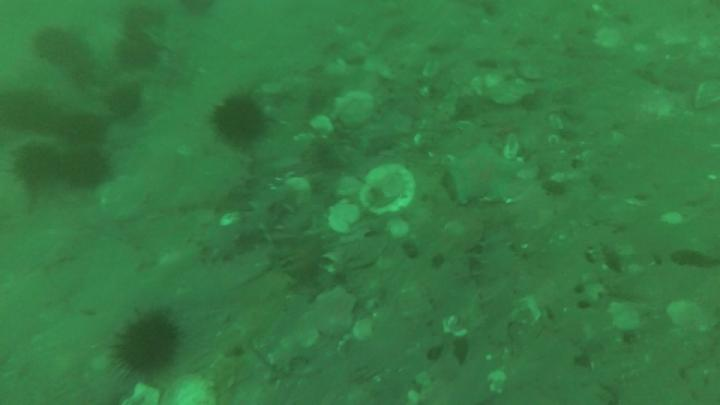echinus: (118, 315, 178, 369), (215, 98, 267, 148), (58, 149, 109, 191), (13, 142, 58, 184), (58, 117, 108, 149), (34, 30, 79, 64), (117, 36, 158, 71), (106, 86, 147, 120)
holothurian: (205, 191, 286, 263), (472, 230, 519, 347)
scallop: (357, 165, 419, 217)
starfish: (448, 146, 523, 206)
